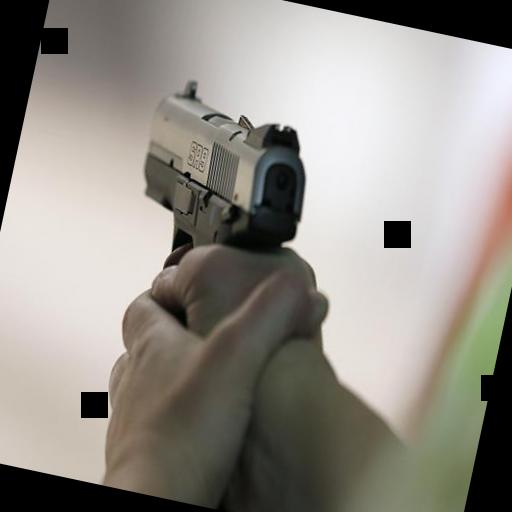Handgun: (96, 58, 330, 370)
